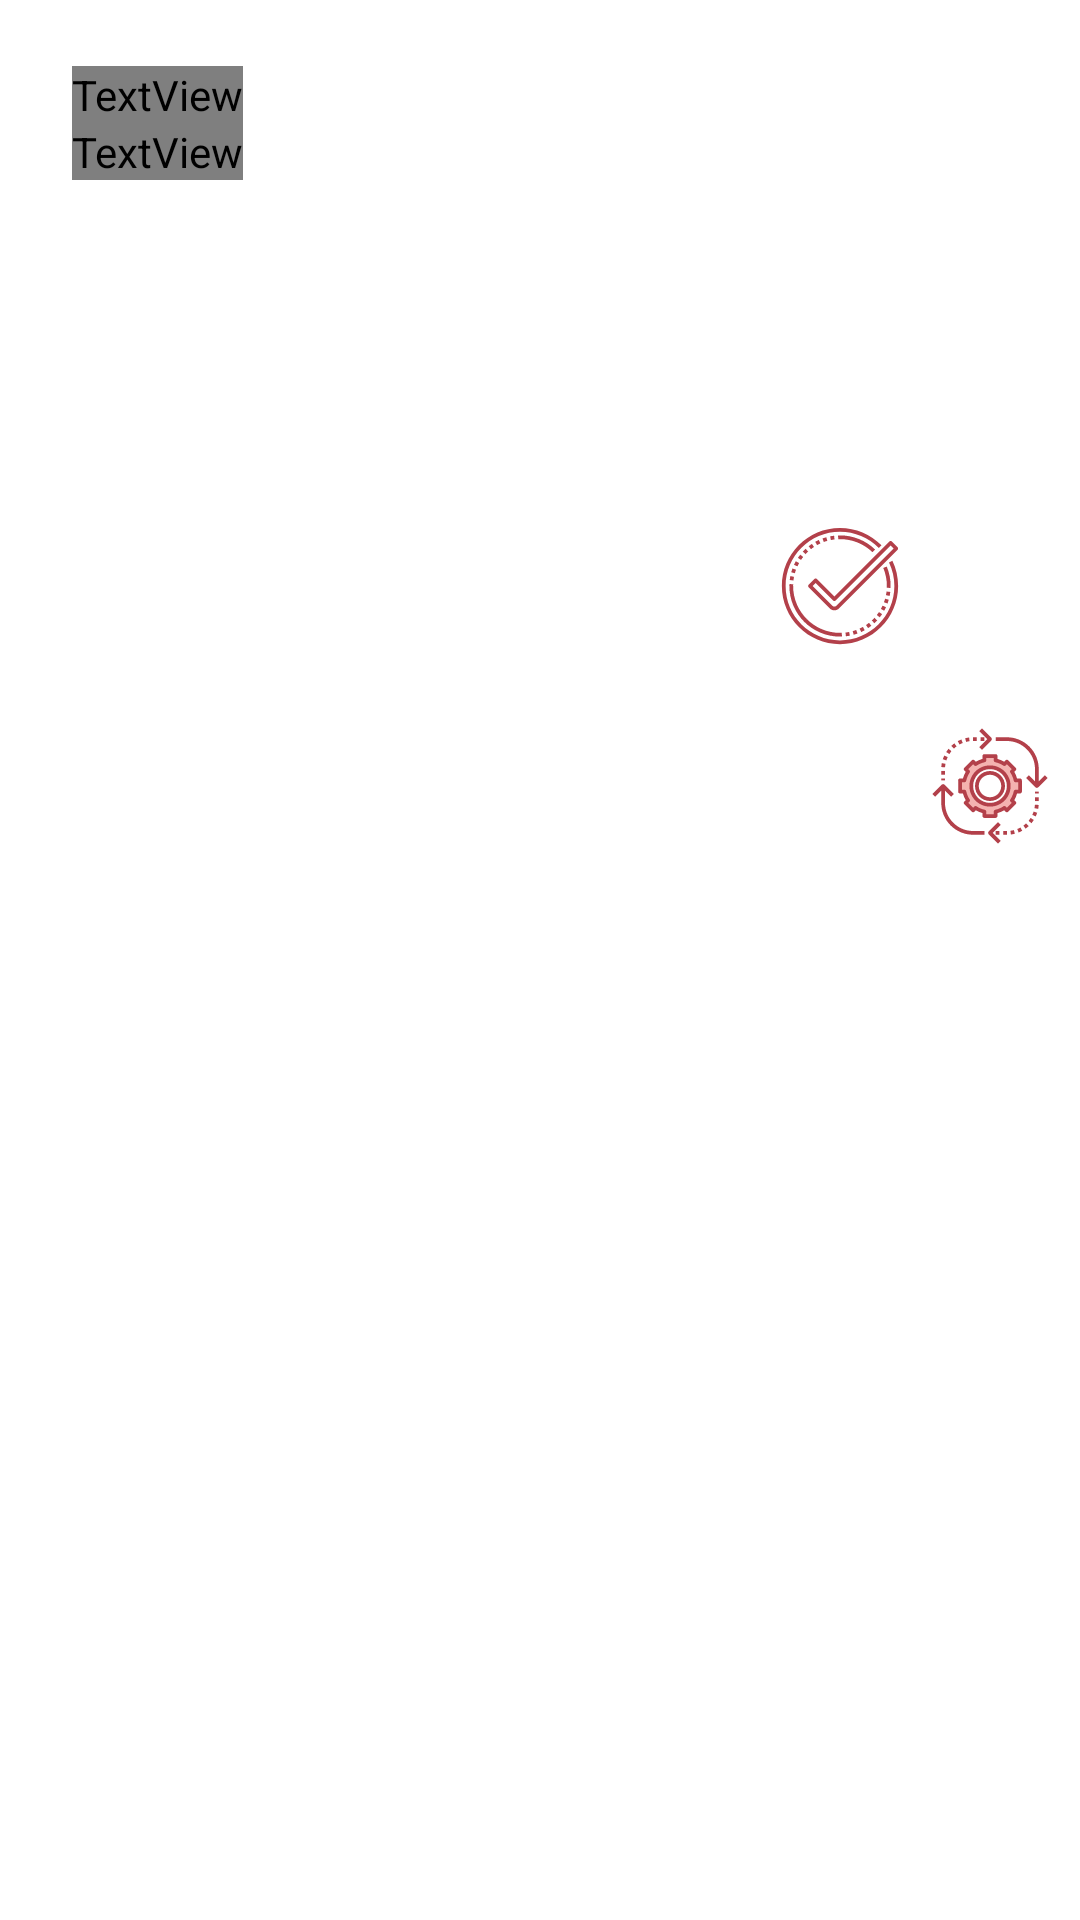

Screen size 1080 × 1920. Icon name, then its center in pixels as point (x, y):
check: point (840, 586)
progress: point (990, 786)
